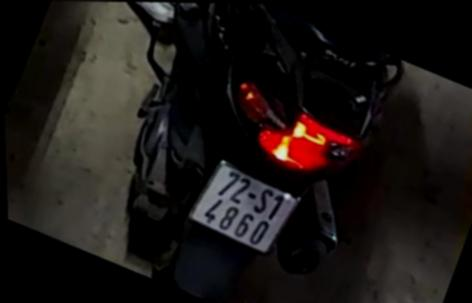License_Plate: (189, 158, 297, 263)
